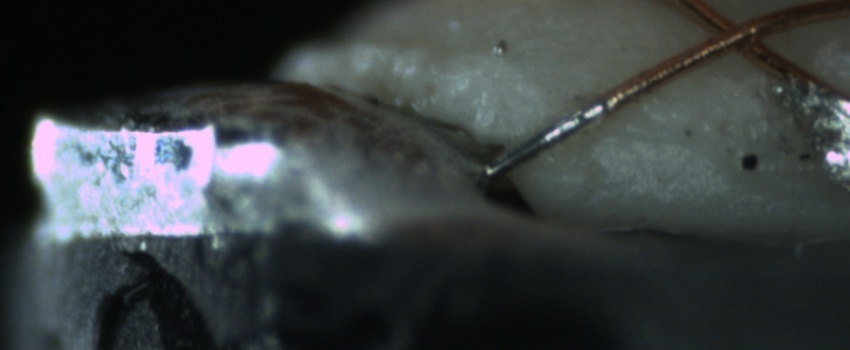CL: (688, 5, 781, 65)
DL: (567, 108, 710, 170)
TS: (486, 101, 608, 175)
TTCW: (481, 75, 640, 180)
